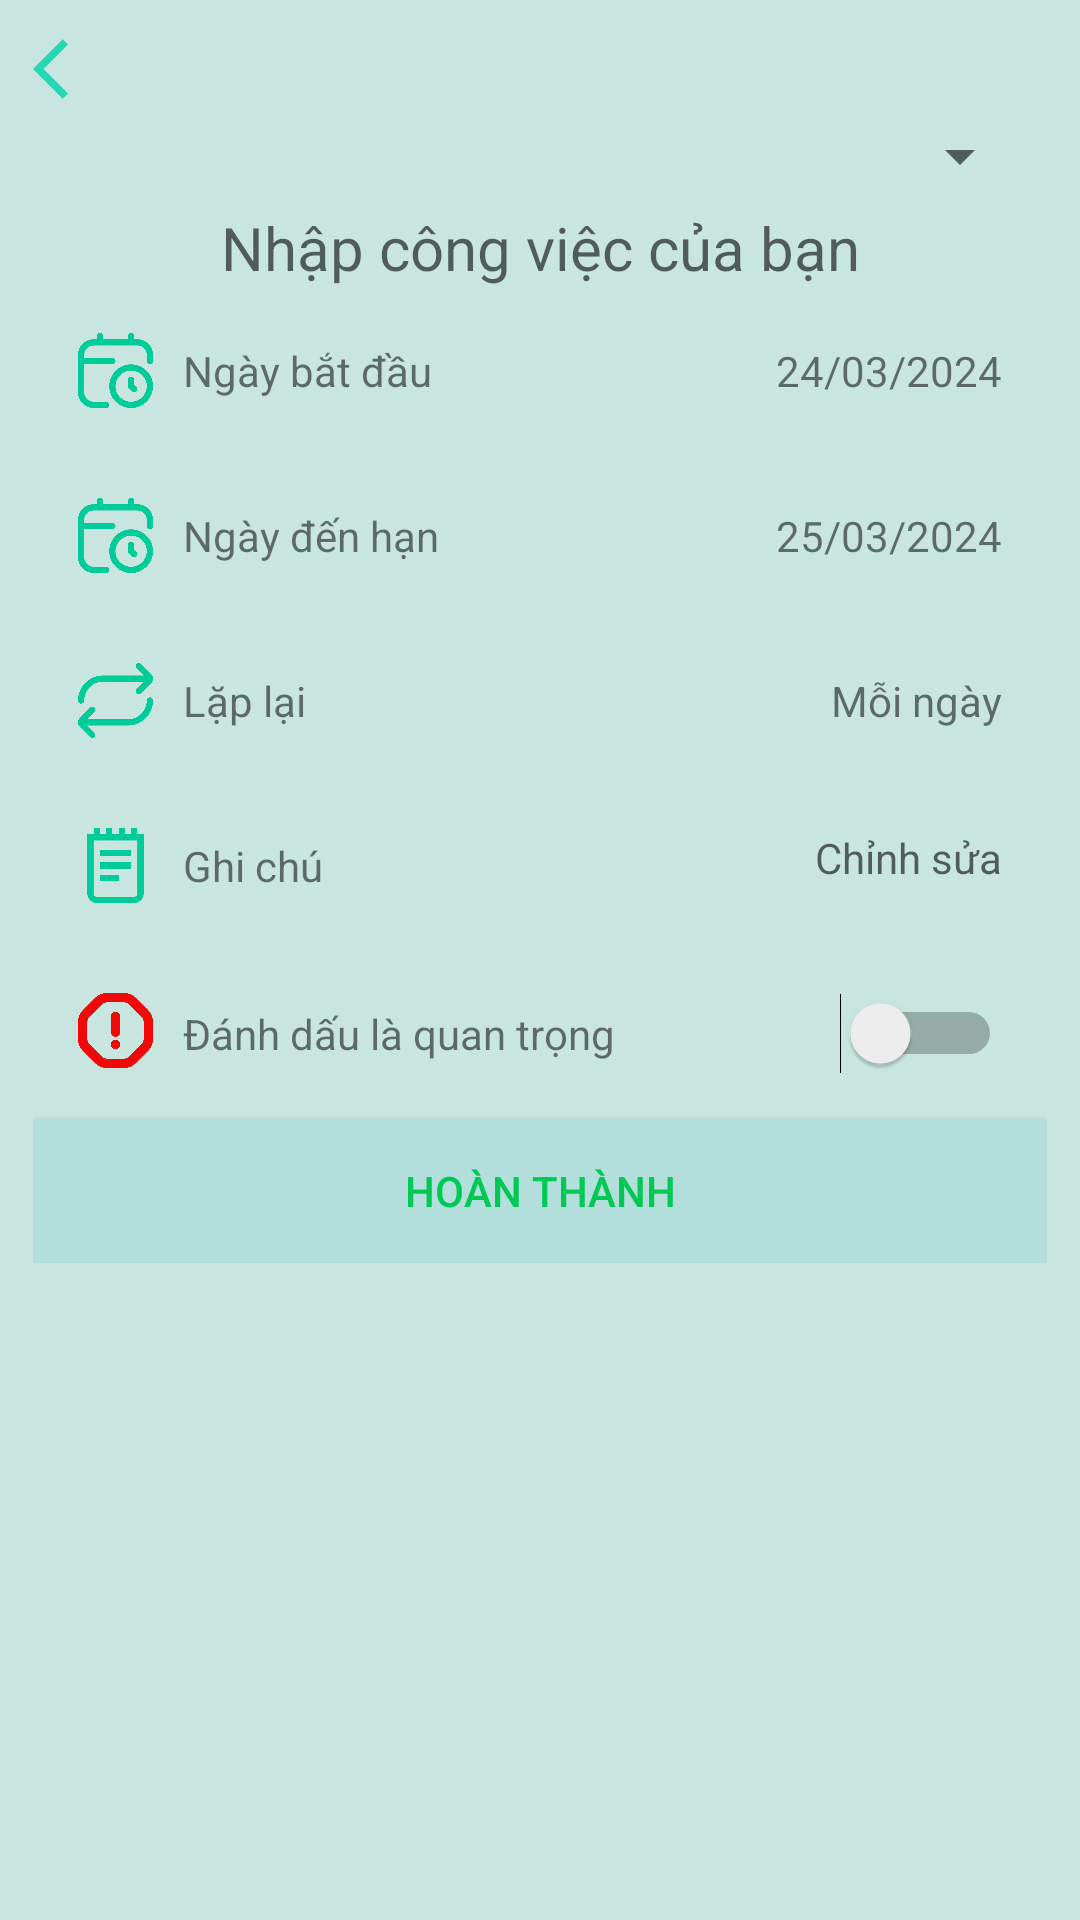

Locate icon controls on the screen. Image size 1080x1920, boxes as (x1, y1, x2, y2).
back: (33, 39, 68, 99)
laplai: (78, 663, 153, 738)
ngaythang: (78, 333, 153, 408), (78, 498, 153, 573)
notework: (87, 828, 144, 903)
quantrong: (78, 993, 153, 1068)
